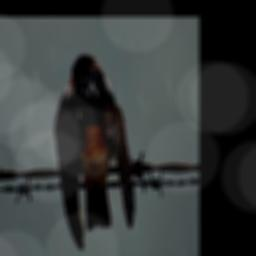Swallow: (53, 53, 136, 252)
